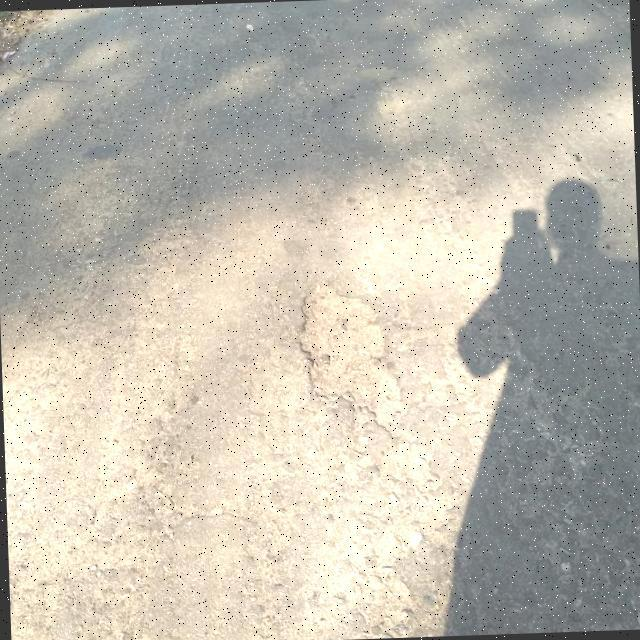Pothole: (295, 293, 426, 446)
